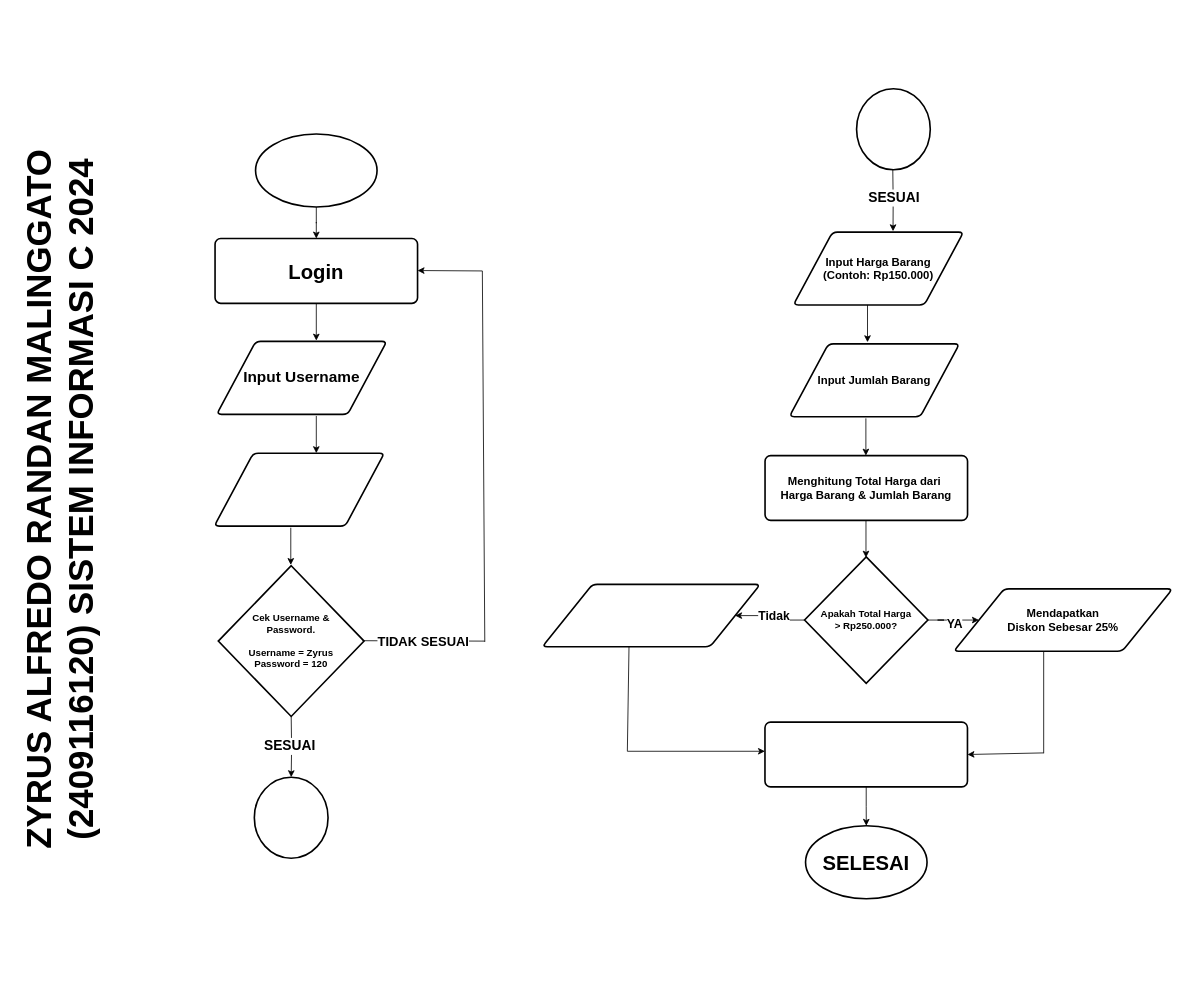
Some shapes in this 1187 by 998 pixel diagram are drawn without their labels. The shapes that lost their labels are listed below. From the top down, each one's centre as x and y in pixels, then its label:
At point (315, 170): "MULAI".
At point (299, 489): "Input Password".
At point (651, 615): "Tidak Mendapatkan Diskon (Total Harga Tetap Sama)".
At point (866, 754): "Tampilkan Total Harga".
